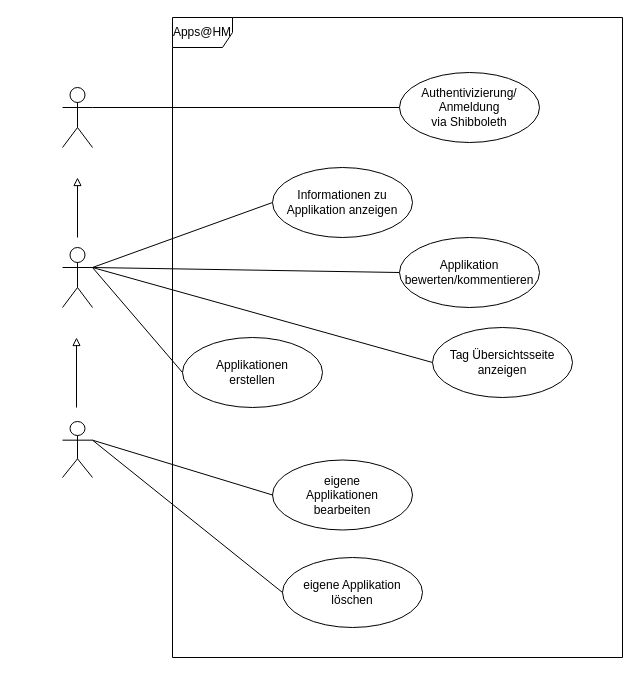
The diagram is 640 pixels wide and 675 high, and some of its shapes have lost their labels. The shapes that lost their labels are listed below. From the top down, each one's centre as x and y in pixels, then its label:
the point at 77,117: Benutzer
the point at 77,277: Hochschulangehöriger
the point at 77,449: Appbesitzer
